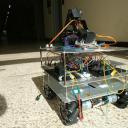cart: (39, 45, 127, 127)
